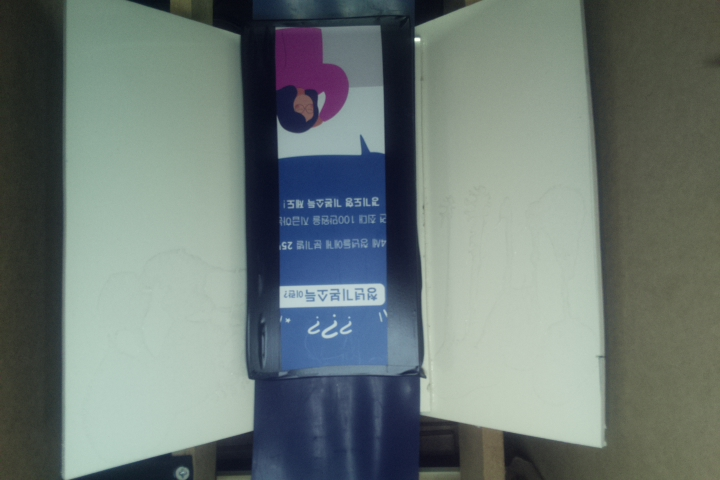book: (245, 14, 420, 383)
